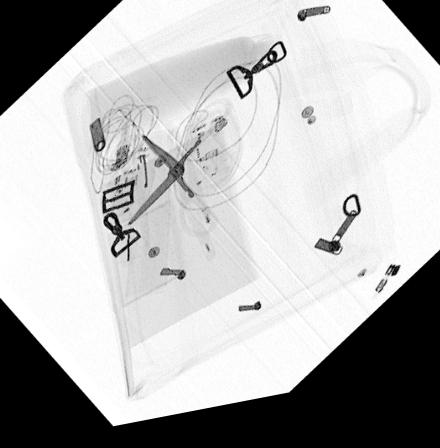Scissors: (124, 105, 234, 247)
